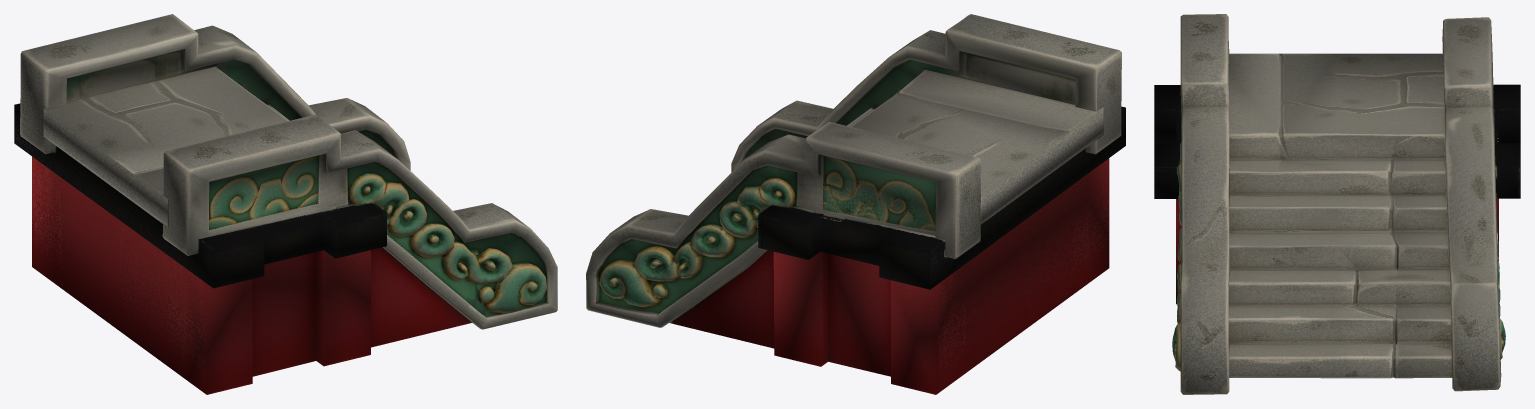
File: tripo_convert_e5a05550-dbc9-48e0-9972-15ebffc0e1e7.fbx
3 renders of one model, left to right at view 1: azimuth 30°, elevation 25°; view 2: azimuth 150°, elevation 25°; view 3: azimuth 270°, elevation 25°, orthographic. The views are drawn at different scales.
Visible parts, largest first — view 1: tripo_node_e5a05550; view 2: tripo_node_e5a05550; view 3: tripo_node_e5a05550.
Boxes of the visible parts, x1,y1,x2,y2 form: tripo_node_e5a05550: (14,14,557,394); tripo_node_e5a05550: (586,14,1125,394); tripo_node_e5a05550: (1154,14,1520,394).
Size of the model in its own units: 0.998 by 0.5996 by 0.9238.
1 material, 1 textured.
